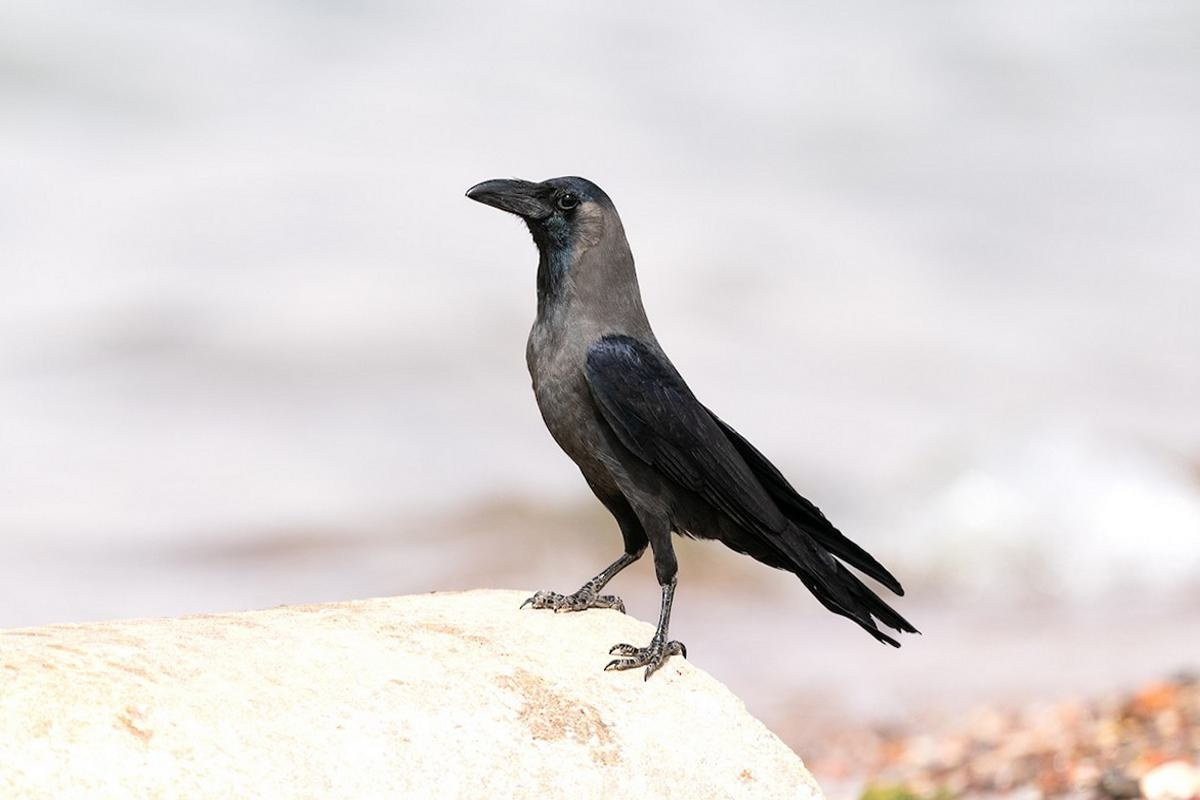crow: (466, 154, 924, 673)
